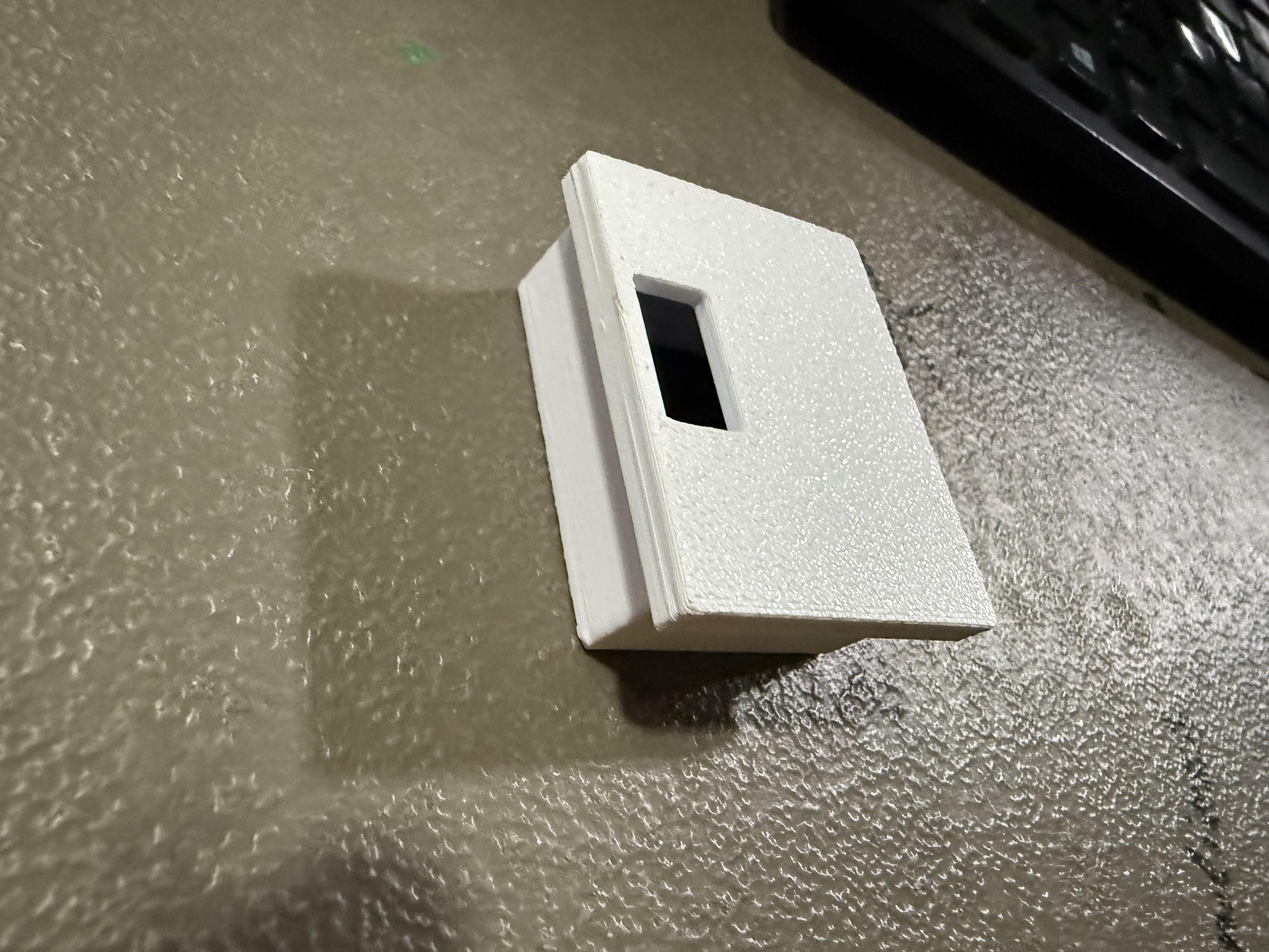enclosure: (517, 149, 997, 654)
